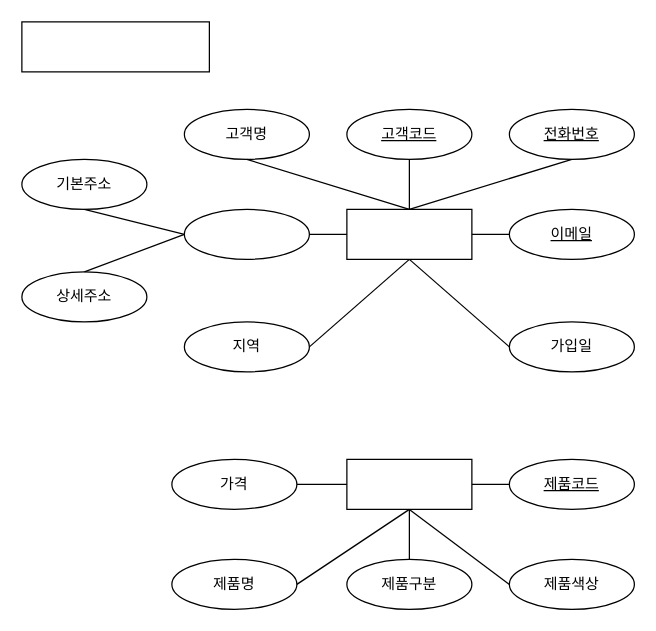
Image size: 656x631. Some labels were removed from this diagram. The shapes that lost their labels are listed below. From the top down, each one's box as (x1, y1, x2, y2) in pixels, then its label:
(21, 21, 209, 72): 개념적 모델링
(183, 208, 309, 259): 주소
(346, 208, 472, 259): 고객
(346, 458, 472, 509): 제품
